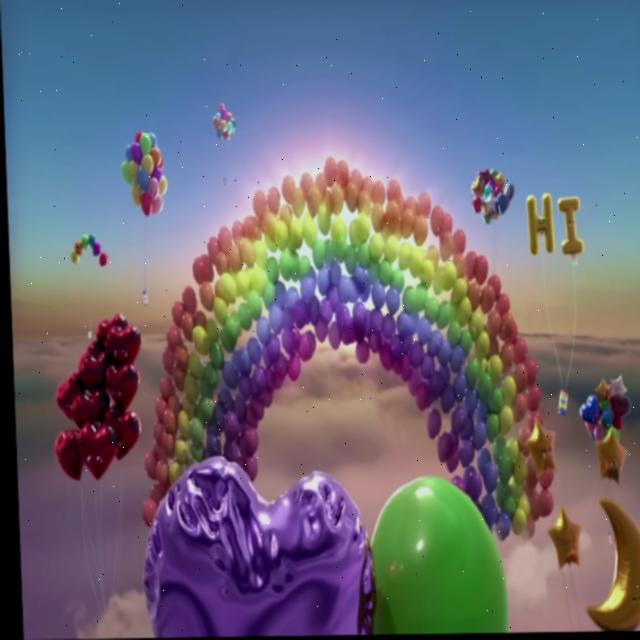balloon: (135, 458, 371, 639), (361, 478, 505, 635), (579, 507, 640, 632), (587, 374, 631, 436), (72, 422, 115, 481), (472, 167, 509, 225), (523, 195, 553, 257), (50, 426, 82, 483), (70, 388, 109, 434), (526, 422, 557, 474), (102, 360, 134, 410), (548, 512, 578, 565), (558, 199, 586, 254), (105, 407, 137, 455), (53, 375, 84, 421), (77, 346, 108, 388), (107, 324, 139, 364), (594, 434, 621, 479), (94, 319, 127, 340), (260, 361, 281, 393), (215, 105, 234, 140), (242, 268, 264, 298), (503, 510, 523, 539), (436, 263, 455, 292), (262, 213, 277, 249), (197, 252, 213, 284), (461, 250, 477, 282), (427, 208, 444, 238), (288, 218, 305, 248), (180, 287, 197, 317), (428, 267, 445, 297), (185, 351, 202, 381), (462, 473, 479, 503), (237, 428, 255, 456), (217, 227, 233, 258), (477, 497, 493, 528), (301, 214, 316, 247), (479, 464, 494, 497), (188, 327, 207, 353), (331, 306, 350, 332), (436, 233, 453, 262), (353, 216, 370, 245), (280, 330, 298, 357), (156, 410, 176, 434), (244, 336, 260, 366), (220, 359, 235, 391), (219, 412, 235, 442), (499, 376, 515, 406), (447, 280, 464, 308), (251, 190, 266, 221), (471, 256, 486, 287), (350, 304, 365, 335), (262, 257, 278, 286), (407, 251, 423, 280), (511, 492, 527, 521), (413, 193, 430, 220), (196, 282, 211, 312), (213, 278, 228, 308), (227, 246, 242, 276), (472, 331, 487, 361), (424, 331, 442, 356), (510, 457, 525, 487), (275, 222, 288, 256), (394, 245, 411, 271), (219, 436, 236, 462), (453, 301, 470, 327), (460, 387, 473, 421), (334, 160, 349, 189), (346, 222, 361, 251), (229, 347, 244, 376), (241, 400, 256, 429), (496, 316, 514, 340), (216, 386, 232, 413), (472, 375, 490, 399), (437, 383, 450, 416), (384, 204, 399, 232), (238, 239, 253, 267), (251, 241, 265, 271), (382, 236, 397, 264), (255, 317, 269, 347), (251, 366, 266, 394), (396, 353, 410, 383), (464, 316, 483, 338), (179, 314, 192, 346), (418, 260, 431, 292), (174, 343, 187, 375), (494, 458, 510, 484), (164, 328, 182, 351), (420, 301, 437, 325), (265, 327, 276, 364), (220, 276, 234, 305), (367, 234, 381, 263), (335, 274, 349, 303), (342, 185, 357, 212), (210, 298, 225, 325), (245, 293, 260, 320), (520, 458, 535, 485), (307, 186, 319, 219), (290, 189, 304, 217), (280, 176, 295, 202), (265, 188, 280, 214), (449, 230, 464, 256), (369, 206, 384, 232), (311, 240, 324, 270), (158, 347, 173, 373), (173, 435, 186, 465), (212, 403, 227, 429), (401, 289, 414, 319), (412, 286, 425, 316), (456, 333, 471, 359), (312, 316, 325, 346), (411, 386, 426, 412), (434, 435, 449, 461), (442, 447, 457, 473), (355, 195, 371, 219), (357, 241, 369, 273), (195, 394, 211, 418), (177, 393, 193, 417), (524, 488, 536, 520), (241, 220, 260, 240), (206, 237, 220, 264), (219, 328, 233, 355), (515, 431, 529, 458), (424, 412, 438, 439), (412, 217, 425, 246), (343, 245, 356, 274), (315, 267, 328, 296), (406, 369, 419, 398), (451, 372, 464, 401), (485, 313, 500, 338), (278, 249, 289, 283), (287, 251, 298, 285), (328, 219, 345, 241), (413, 320, 430, 342), (318, 206, 330, 237), (346, 169, 362, 192), (501, 322, 517, 345), (300, 173, 313, 201), (328, 186, 341, 214), (182, 375, 195, 403), (326, 322, 339, 350), (237, 307, 251, 333), (367, 304, 381, 330), (273, 352, 286, 380), (243, 457, 256, 485), (502, 437, 515, 465), (169, 367, 184, 391), (197, 379, 212, 403), (393, 314, 408, 338), (485, 390, 500, 414), (470, 424, 485, 448), (491, 295, 508, 316), (448, 409, 465, 430), (535, 492, 552, 513), (323, 157, 334, 189), (233, 273, 249, 295), (457, 445, 473, 467), (489, 439, 505, 461), (483, 415, 496, 442), (475, 450, 488, 477), (485, 313, 499, 338), (369, 181, 384, 204), (456, 421, 471, 444), (431, 306, 450, 324), (400, 212, 413, 238), (331, 236, 344, 262), (466, 286, 479, 312), (370, 284, 383, 310), (445, 323, 458, 349), (497, 410, 510, 436), (248, 396, 261, 422), (137, 131, 150, 157), (189, 258, 205, 279), (297, 281, 313, 302), (511, 340, 525, 364), (138, 501, 152, 525), (271, 284, 285, 308), (297, 280, 313, 301), (355, 281, 370, 303), (234, 375, 249, 397), (231, 391, 242, 421), (204, 322, 217, 347), (487, 360, 500, 385), (302, 334, 315, 359), (447, 348, 460, 373), (314, 174, 326, 201), (321, 240, 333, 267), (141, 451, 153, 478), (153, 461, 165, 488), (258, 286, 275, 305), (230, 221, 244, 244), (486, 276, 500, 299), (484, 415, 495, 444), (388, 270, 403, 291), (523, 386, 538, 407), (360, 178, 373, 202), (480, 289, 493, 313), (304, 298, 317, 322), (280, 306, 293, 330), (268, 308, 280, 334), (208, 345, 221, 369), (203, 363, 215, 389), (187, 418, 200, 442), (376, 346, 389, 370), (408, 343, 421, 367), (279, 206, 290, 234), (169, 301, 183, 323), (292, 303, 303, 331), (118, 160, 129, 188), (157, 377, 173, 396), (191, 310, 206, 330), (213, 256, 228, 276), (463, 362, 475, 387), (447, 474, 462, 494), (536, 471, 551, 491), (381, 317, 394, 340), (354, 341, 367, 364), (497, 347, 510, 370), (386, 291, 397, 318), (151, 396, 165, 417), (145, 482, 159, 503), (165, 464, 179, 485), (160, 432, 172, 456), (228, 311, 240, 335), (186, 441, 202, 459), (504, 484, 522, 500), (387, 181, 400, 203), (438, 215, 451, 237), (426, 247, 437, 273), (224, 320, 237, 342), (513, 368, 524, 394), (258, 383, 269, 409), (492, 483, 505, 505), (135, 167, 148, 189), (379, 260, 389, 288), (472, 402, 486, 422), (495, 514, 505, 542), (443, 429, 457, 449), (129, 143, 141, 166), (129, 181, 140, 206), (527, 411, 540, 432), (149, 443, 164, 461), (284, 290, 299, 308), (204, 422, 219, 440), (433, 367, 448, 385), (149, 196, 163, 215), (305, 268, 317, 290), (318, 299, 330, 321), (238, 350, 249, 374), (486, 340, 498, 362), (144, 179, 156, 201), (367, 332, 380, 352), (297, 258, 308, 281), (138, 192, 149, 215), (204, 438, 218, 456), (352, 274, 366, 292), (419, 359, 433, 377), (321, 191, 331, 216), (150, 422, 161, 444), (325, 286, 336, 308), (175, 411, 187, 431), (366, 263, 378, 283), (498, 500, 513, 516), (519, 522, 531, 542), (150, 146, 160, 170), (451, 259, 464, 277), (285, 360, 298, 378), (296, 337, 307, 358), (338, 328, 349, 348), (523, 361, 533, 383), (436, 343, 447, 363), (328, 265, 340, 283), (398, 333, 410, 351), (387, 341, 400, 357), (404, 197, 414, 217), (388, 359, 398, 379), (129, 160, 137, 185), (428, 376, 439, 394), (122, 144, 133, 162), (166, 397, 178, 413), (143, 156, 151, 178), (515, 398, 522, 422), (150, 169, 161, 183), (158, 178, 167, 192), (71, 242, 81, 254), (397, 194, 404, 211), (78, 237, 87, 250), (236, 454, 243, 470), (149, 131, 156, 147), (86, 234, 95, 246), (67, 250, 75, 260), (92, 245, 100, 255), (99, 255, 107, 265)
